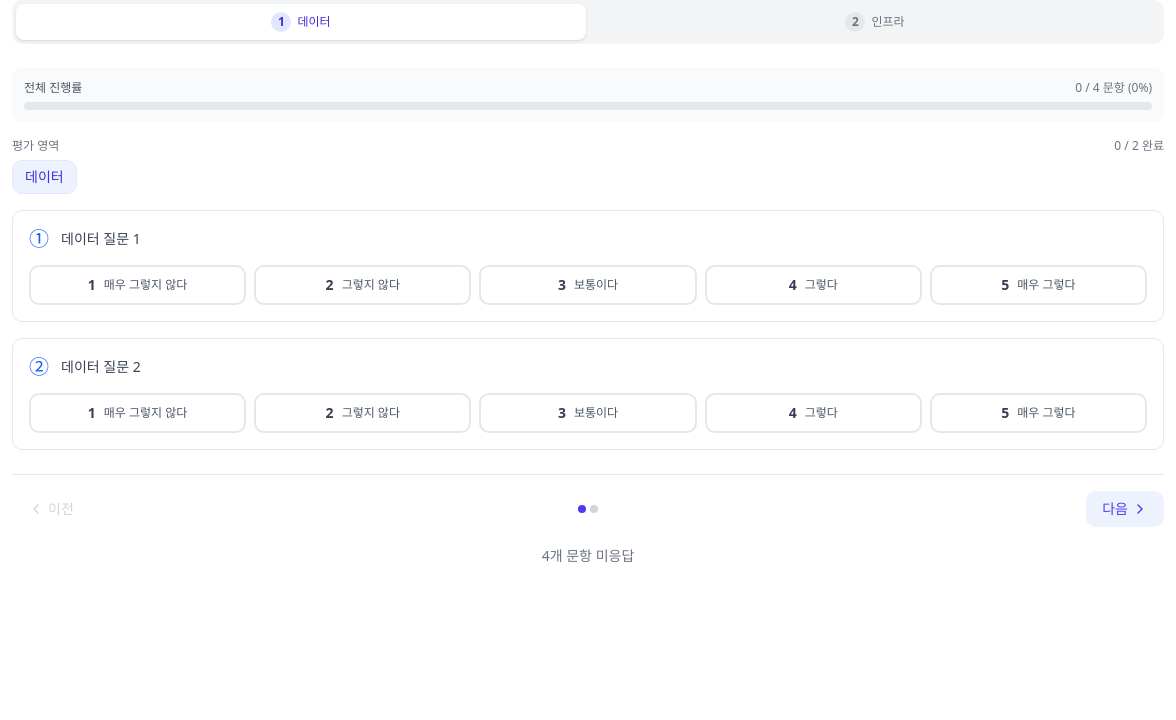
Test: SelfAssessmentForm › 스텝 네비게이션 › 이전 버튼으로 이전 스텝으로 돌아갈 수 있다
Click the button "1 매우 그렇지 않다" below "데이터 질문 1".
click(138, 285)  # box [29,265,246,305]
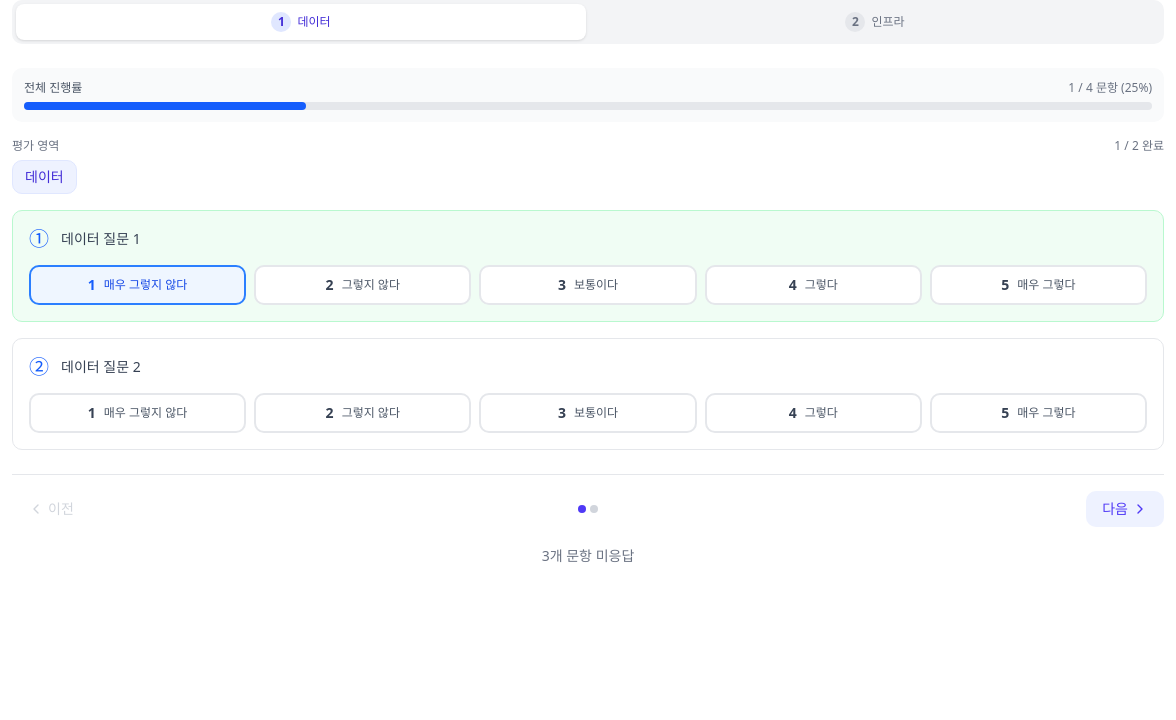
Click the button "1 매우 그렇지 않다" below "데이터 질문 2".
click(138, 413)  # box [29,393,246,433]
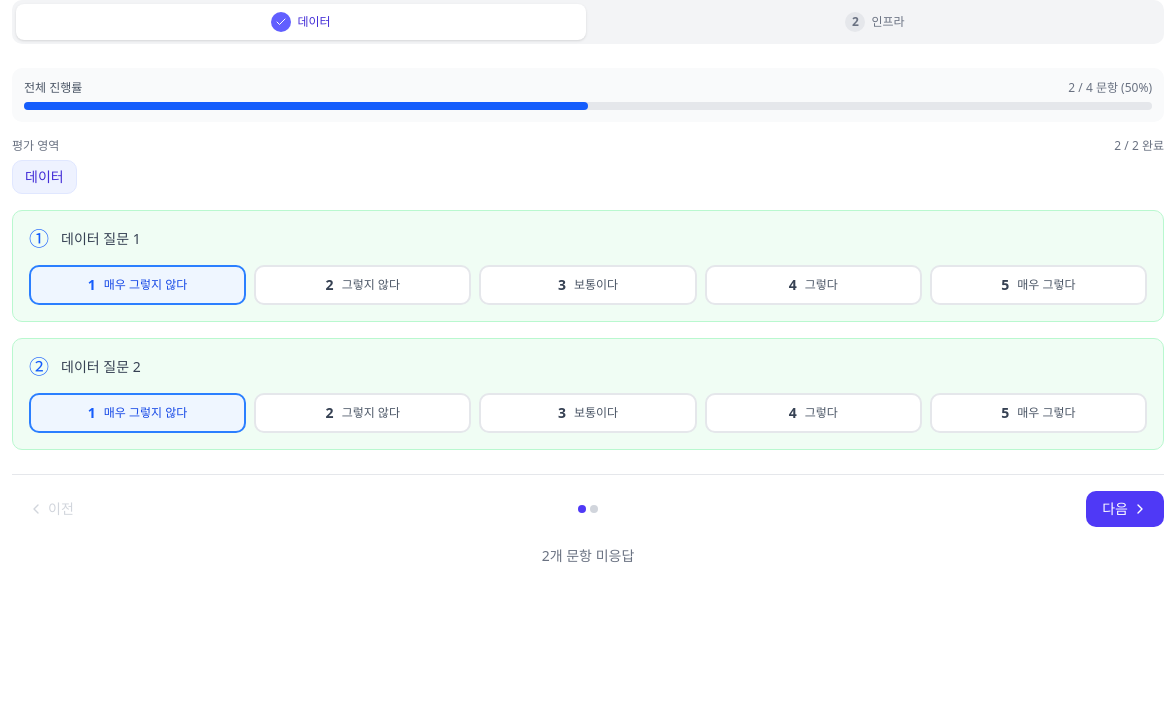
Click the button "다음".
click(1125, 509)  # box [1086,491,1164,527]
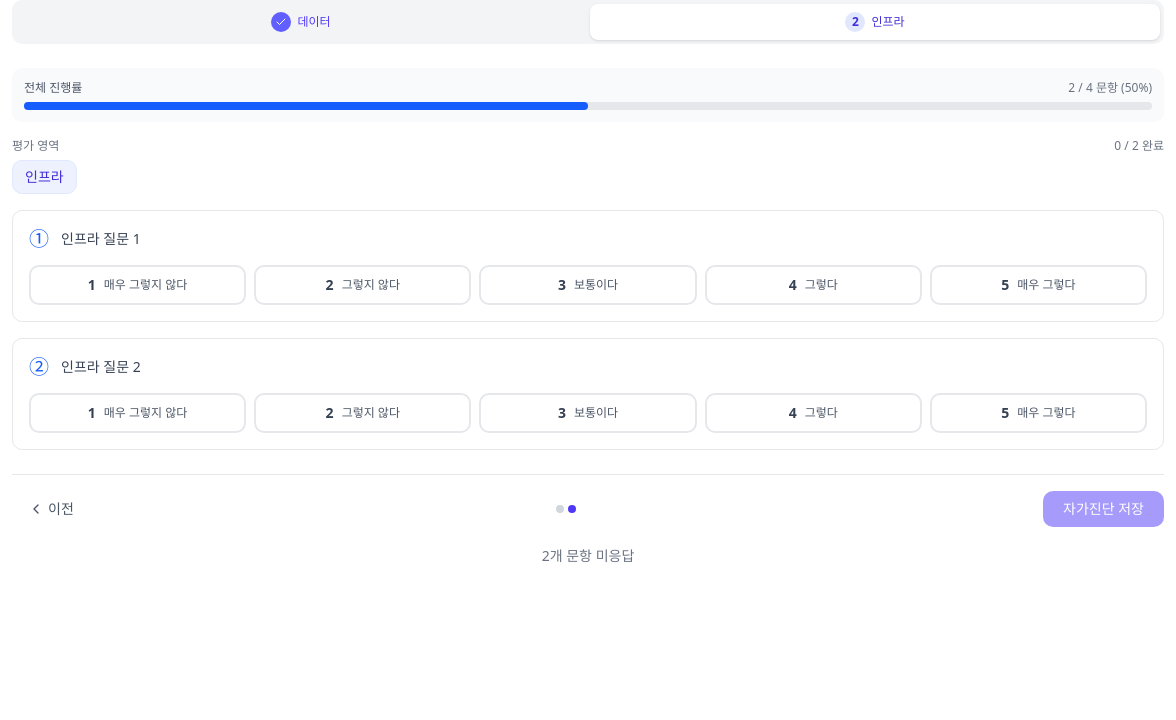
Check: the text "인프라 질문 1" is shown, box [61,227,141,253]
Click the button "이전".
click(51, 509)  # box [12,491,90,527]
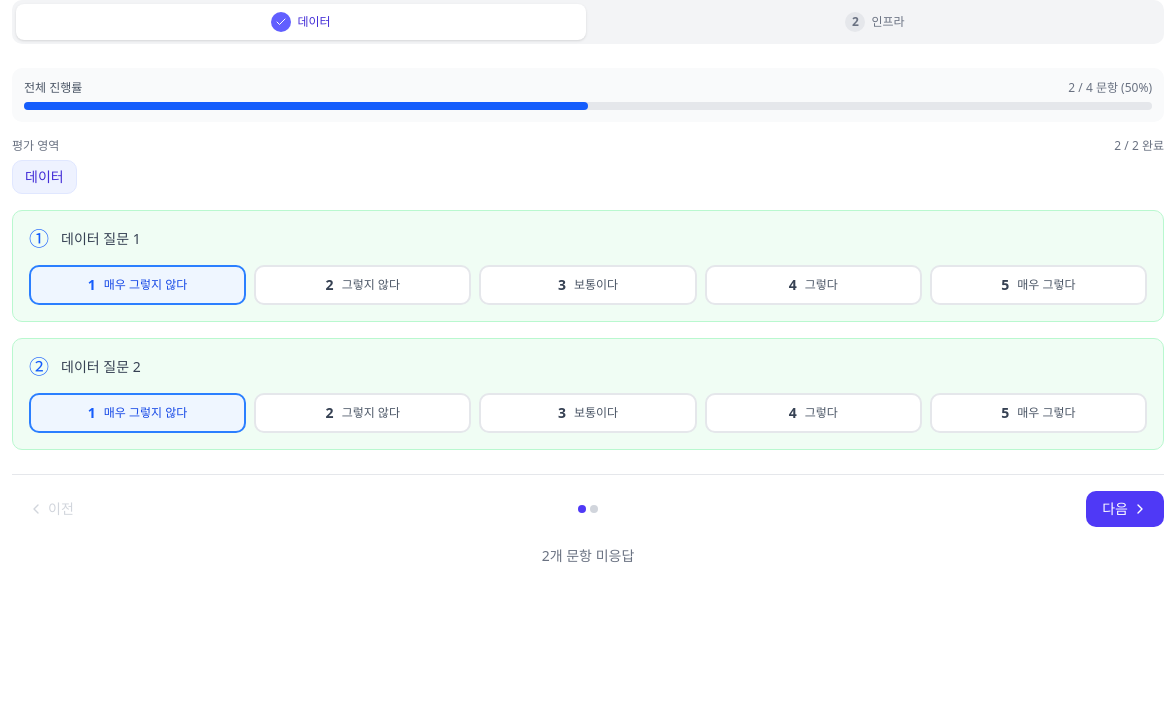
Check: the text "데이터 질문 1" is shown, box [61,227,141,253]
